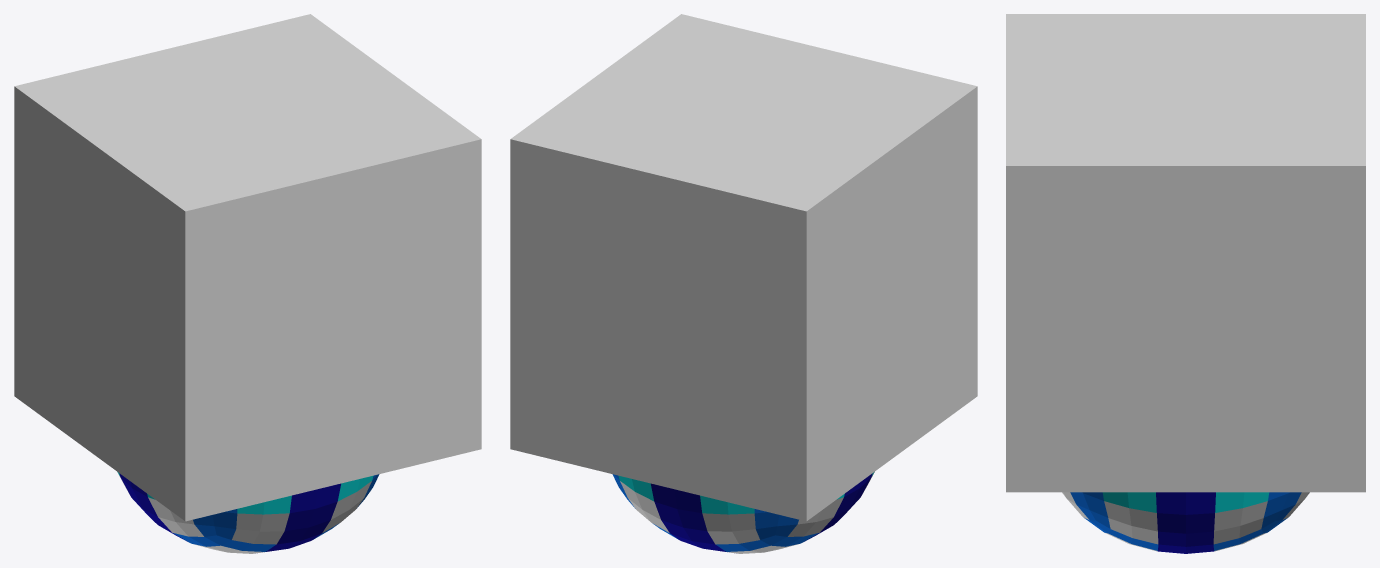
Rendered from feeding bowl.fbx.
3 views of the same model, side by side, from view 1: azimuth 30°, elevation 25°; view 2: azimuth 150°, elevation 25°; view 3: azimuth 270°, elevation 25° (orthographic). The views are drawn at different scales.
Parts seen in each view (by area): view 1: Cube.002, Cube.001; view 2: Cube.002, Cube.001; view 3: Cube.002, Cube.001.
Part boxes in pixels (x1=…): Cube.002: x1=14, y1=14, x2=481, y2=521; Cube.001: x1=117, y1=471, x2=379, y2=553; Cube.002: x1=510, y1=14, x2=977, y2=521; Cube.001: x1=612, y1=471, x2=874, y2=553; Cube.002: x1=1006, y1=14, x2=1365, y2=492; Cube.001: x1=1062, y1=492, x2=1309, y2=553.
Bounding box in the file's own units: 200 × 275 × 200.
